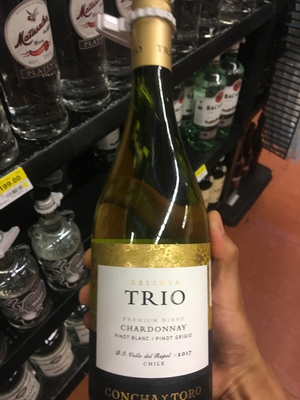trio chardonnay: (90, 32, 227, 400)
